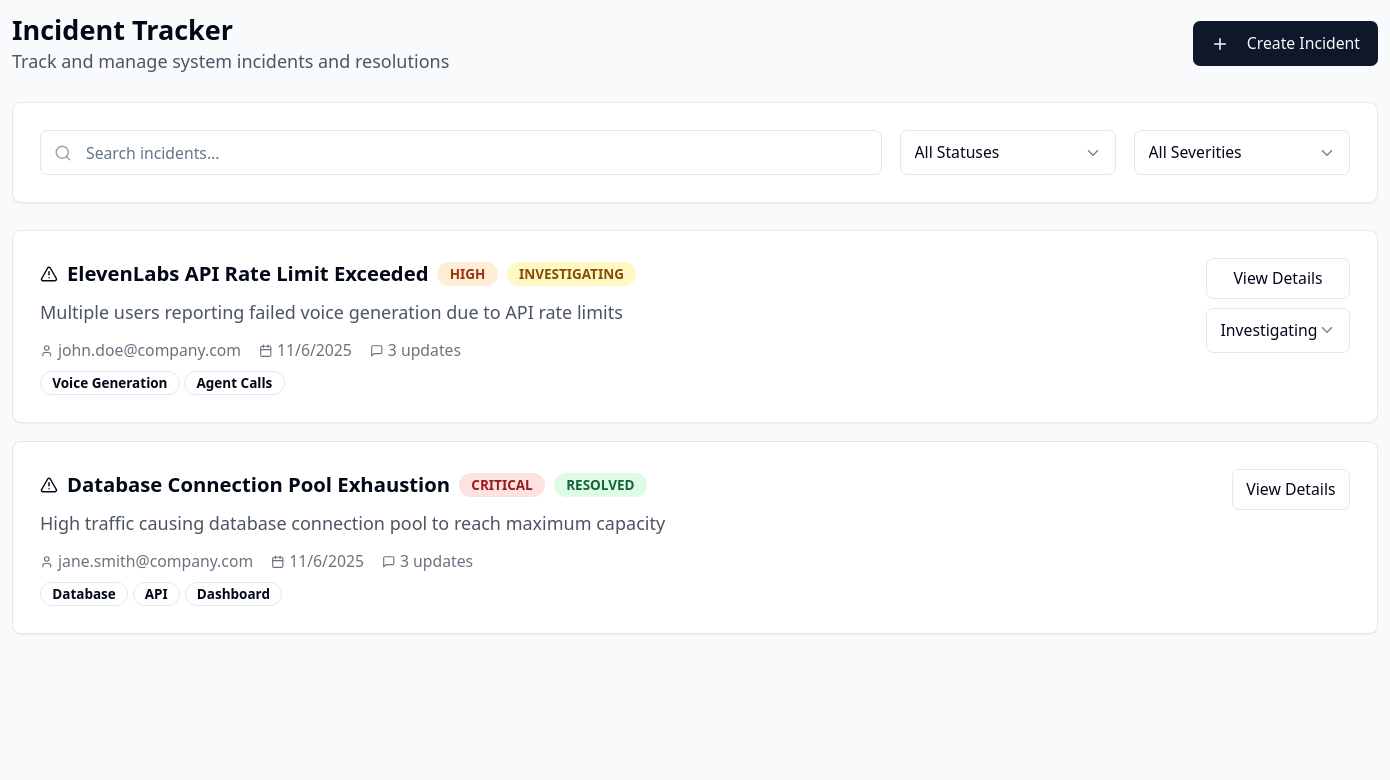
Scenario: IncidentTracker › shows empty state when no incidents match filters
In the field with placeholder "Search incidents...": point(461, 152) [40,130,882,175], type "nonexistent"
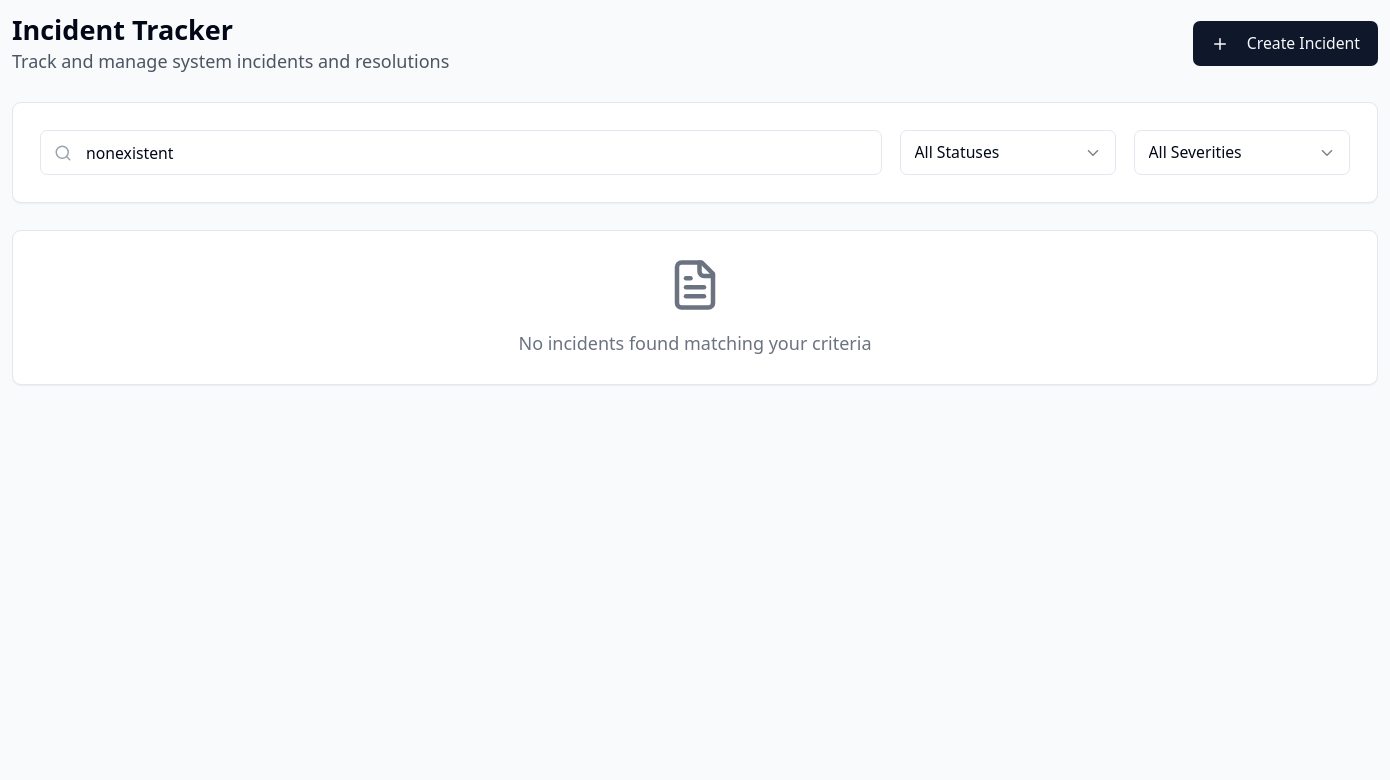
expect the text "No incidents found matching your criteria" is shown: met, box [518,331,872,355]
